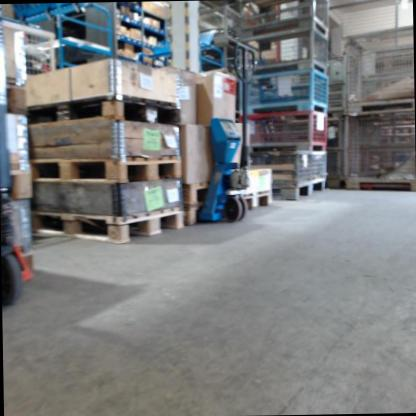pallet: (32, 205, 184, 244), (34, 153, 181, 186), (29, 97, 179, 127), (244, 188, 273, 211), (183, 182, 208, 204), (182, 205, 201, 226)
pallet_truck: (194, 39, 260, 224), (0, 3, 36, 304)
stillage: (345, 108, 415, 193), (346, 35, 414, 110), (236, 29, 330, 75), (251, 146, 326, 202), (243, 68, 328, 113), (238, 0, 329, 40), (251, 110, 326, 148), (328, 113, 346, 189)
